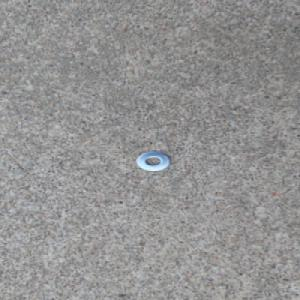Washer: (135, 151, 170, 171)
